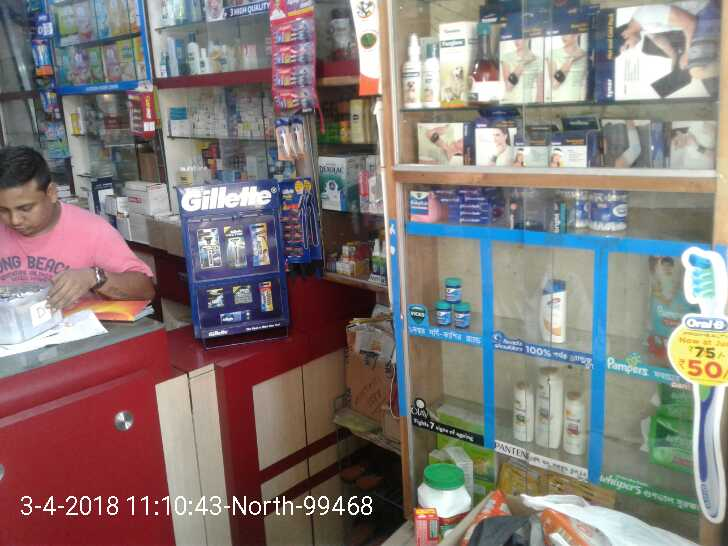vicks: (431, 272, 477, 331), (410, 191, 441, 217)
